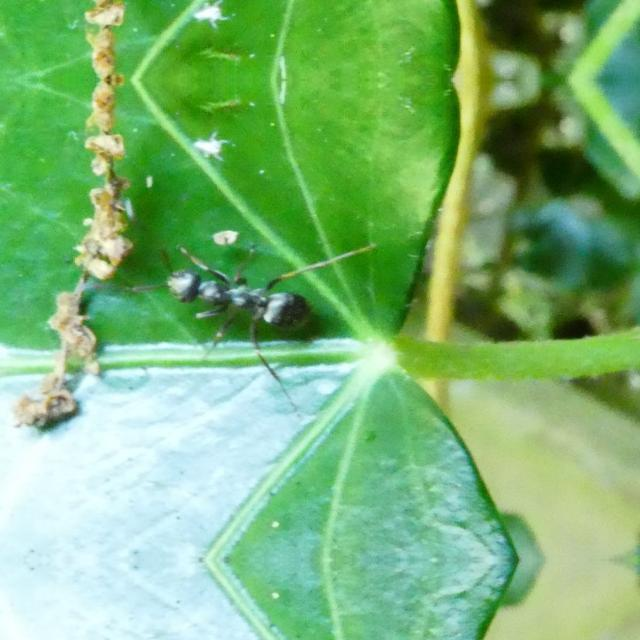Formica: (169, 226, 333, 364)
